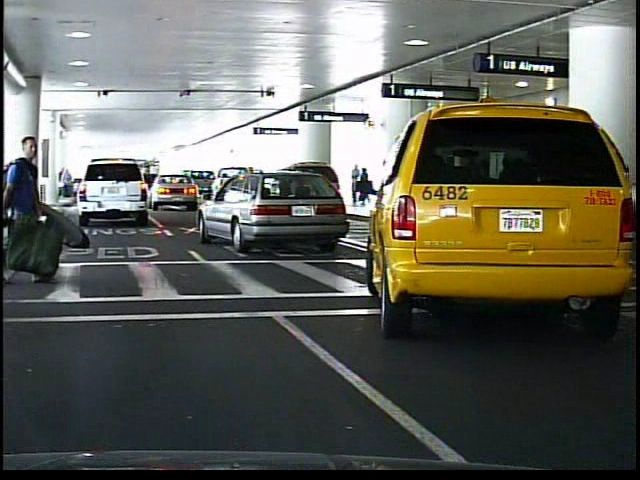person: (9, 130, 59, 290), (348, 164, 359, 203), (359, 165, 369, 203)
